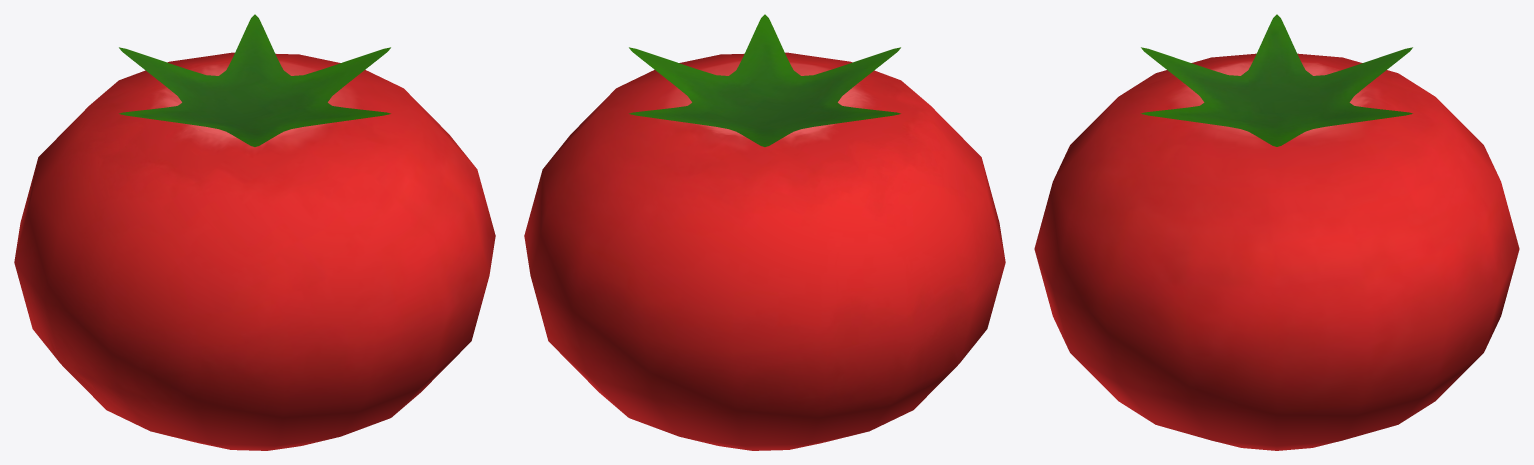
Rendered from tomato.fbx.
3 renders of one model, left to right at view 1: azimuth 30°, elevation 25°; view 2: azimuth 150°, elevation 25°; view 3: azimuth 270°, elevation 25°, orthographic.
Visible parts, largest first — view 1: Tomato; view 2: Tomato; view 3: Tomato.
Part boxes in pixels (x1,y1,x2,y2): Tomato: (14, 14, 495, 450); Tomato: (524, 14, 1005, 450); Tomato: (1034, 14, 1519, 450).
Size of the model in its own units: 133 by 105 by 133.
Materials: 1 (1 with a texture image).
